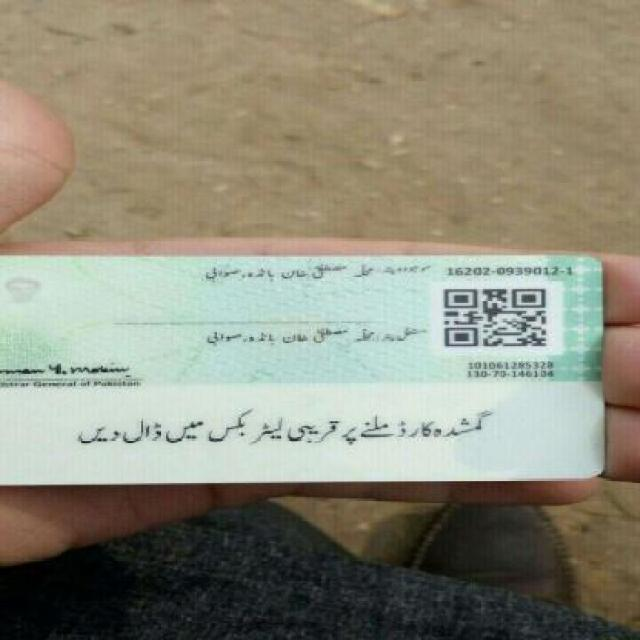Back: (6, 250, 612, 488)
